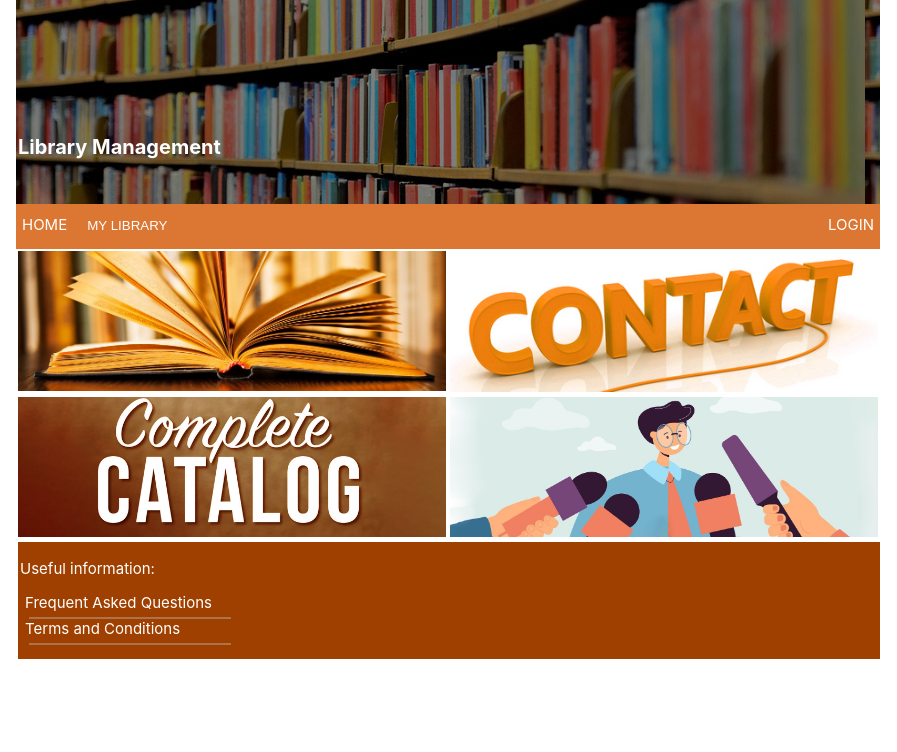
Scenario: Login tests › Given valid username and password then the user logins in application
Click the link "LOGIN" at [851, 224], box [828,215,874,234]
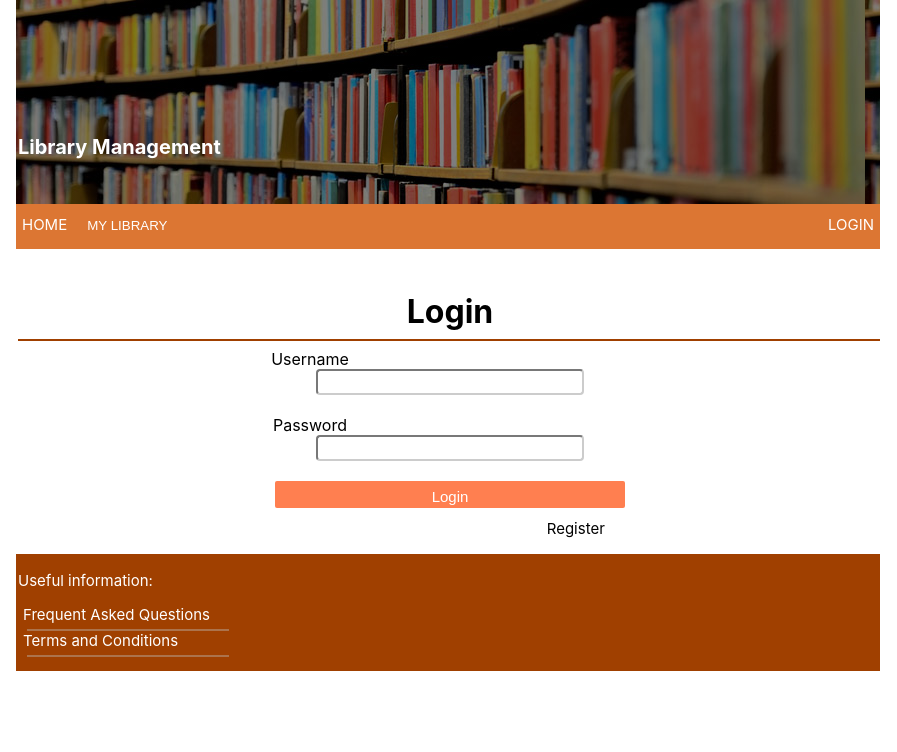
Type "luciangeo" into the field with test id "username" at [450, 382], box [316,369,584,395]
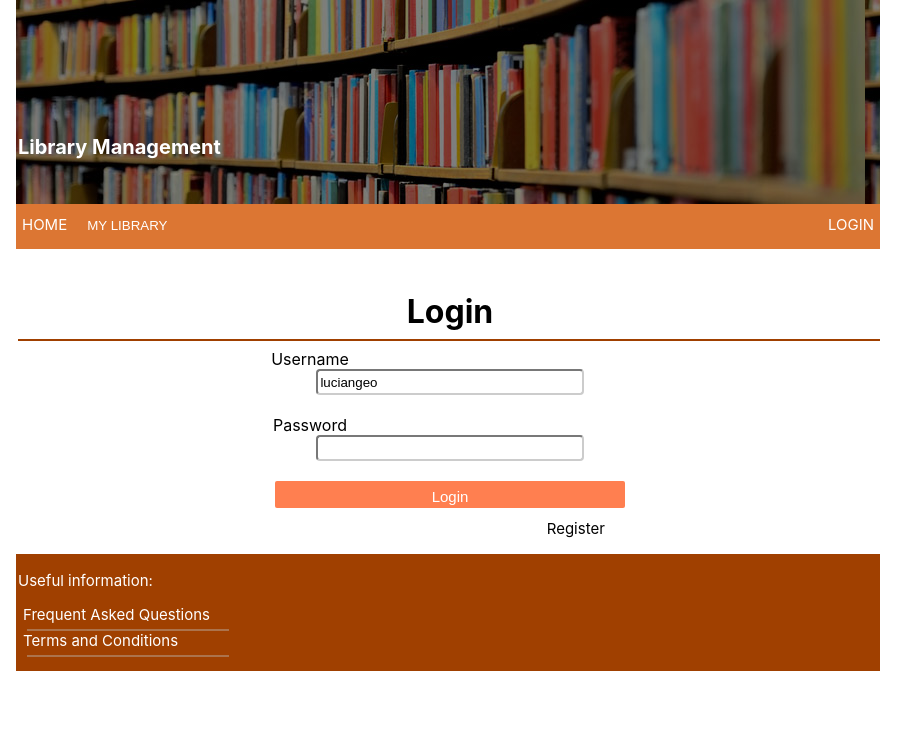
Type "luciangeo" into the password field with test id "password" at [450, 448], box [316,435,584,461]
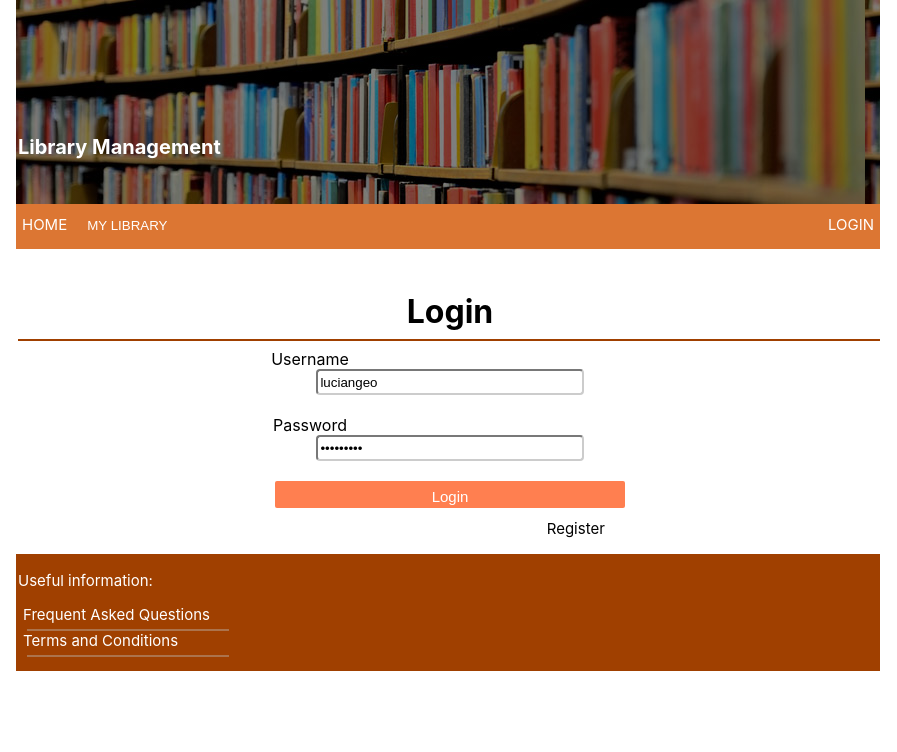
Submit the form from the button with test id "loginButton", box [275,481,625,508]
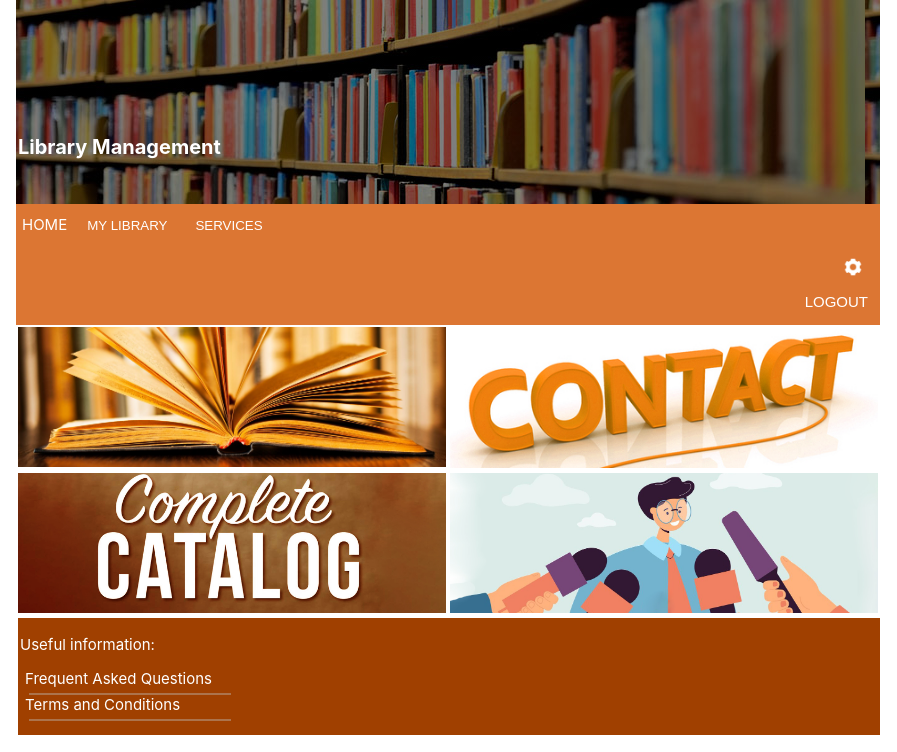
Expected: the button "LOGOUT" is shown, [799,292,874,311]
